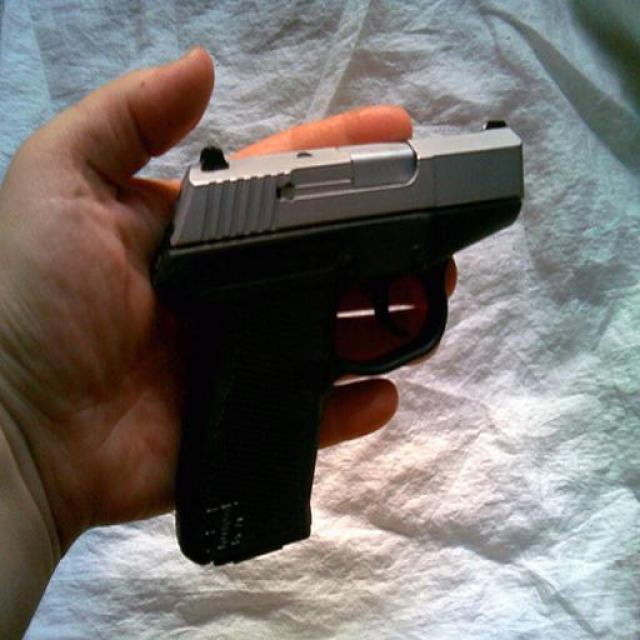pistol: (141, 114, 523, 575)
